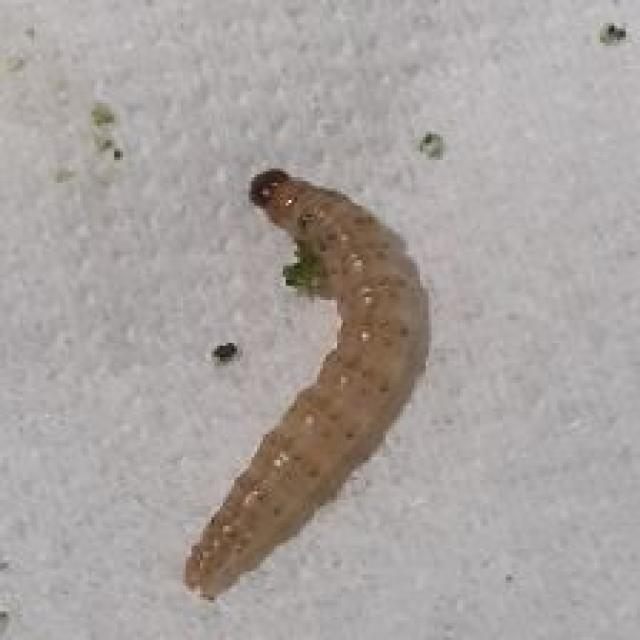white mucus: (183, 131, 435, 629)
